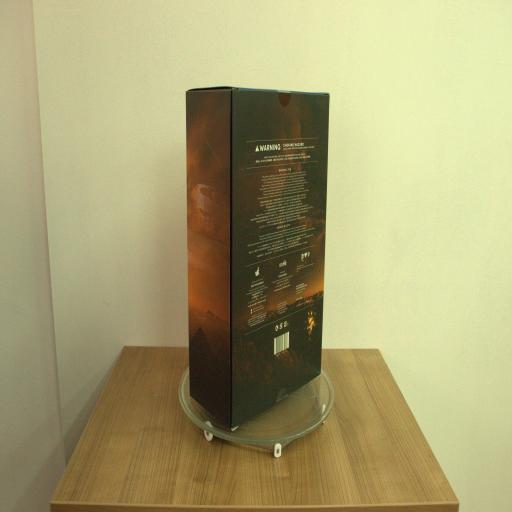superman: (186, 85, 329, 422)
